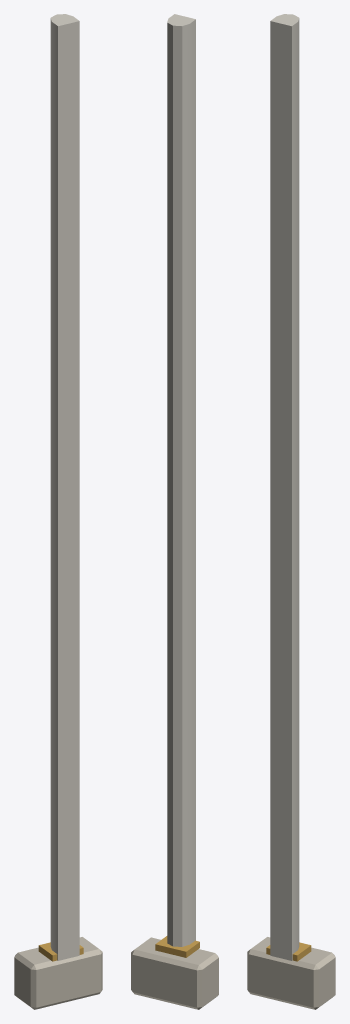
The model's file is lib_column.glb.
The picture shows the model from 3 angles, left to right: view 1: azimuth 30°, elevation 25°; view 2: azimuth 150°, elevation 25°; view 3: azimuth 330°, elevation 25°; orthographic projection.
Parts seen in each view (by area): view 1: column; view 2: column; view 3: column.
Part boxes in pixels (x1,y1,x2,y2): column: (14,14,102,1009); column: (131,14,218,1009); column: (247,14,335,1009).
Bounding box in the file's own units: 0.6 × 7.8 × 0.3.
